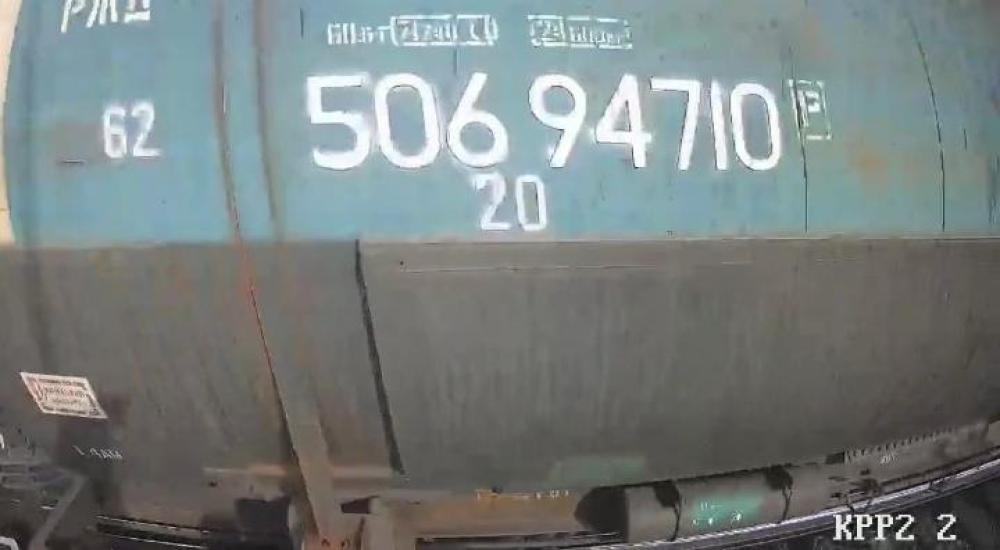Wagon-number: (298, 69, 789, 176)
